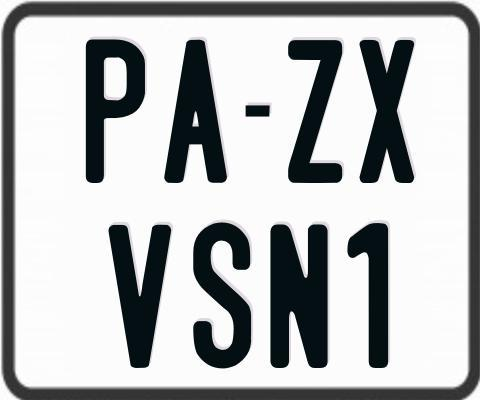1: (345, 221, 392, 371)
A: (163, 40, 232, 183)
N: (270, 224, 333, 371)
P: (85, 36, 146, 185)
S: (191, 221, 252, 373)
V: (109, 222, 173, 367)
X: (360, 38, 418, 186)
Z: (286, 40, 346, 188)
